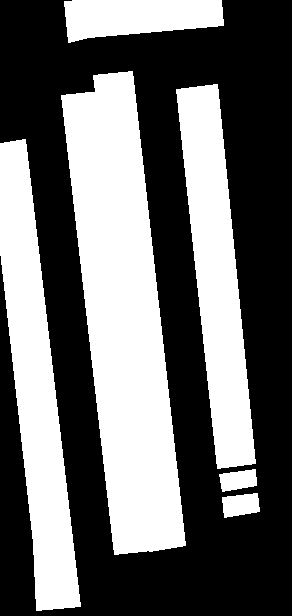parkingspot: (93, 71, 185, 551), (61, 91, 151, 554), (0, 139, 80, 610), (176, 84, 255, 468), (64, 0, 223, 42), (222, 493, 259, 517), (219, 469, 256, 491)
